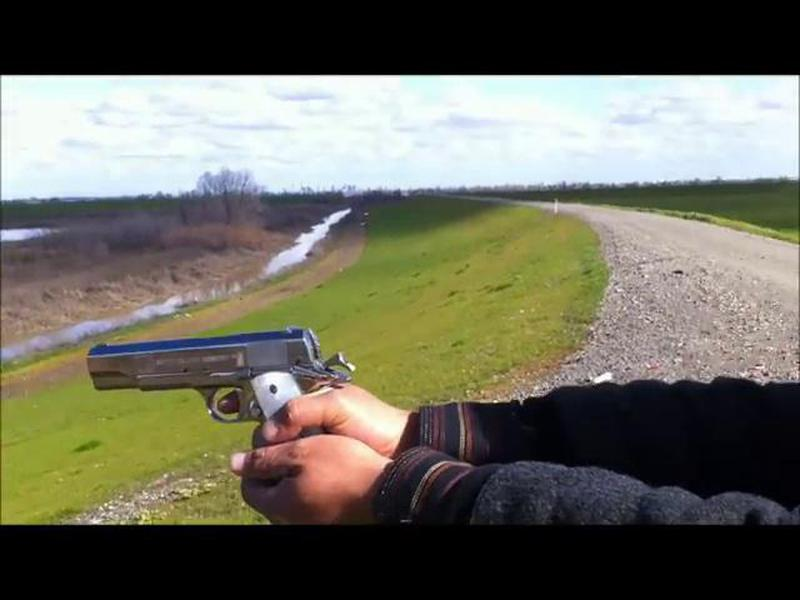Pistola: (66, 314, 374, 465)
